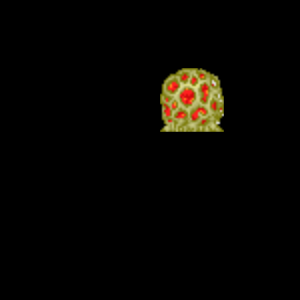Enemy: (160, 68, 224, 132)
